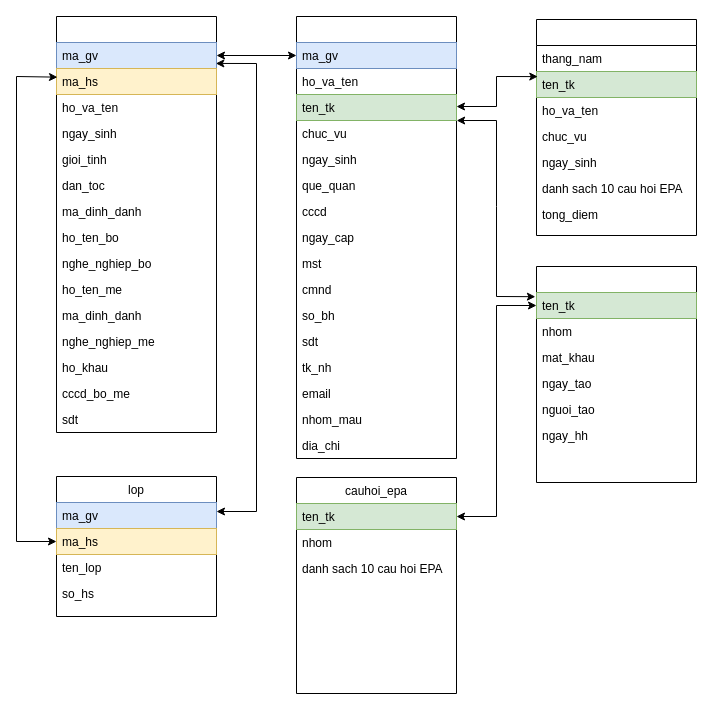
This 713x710 diagram has some shape labels left out. The shapes that lost their labels are listed below. From the top down, each one's box as (x1, y1, x2, y2) in pixels, then its label:
(536, 18, 696, 236): bangdanhgia
(56, 16, 216, 432): hocsinh
(296, 16, 456, 458): giaovien
(536, 266, 696, 482): tk
